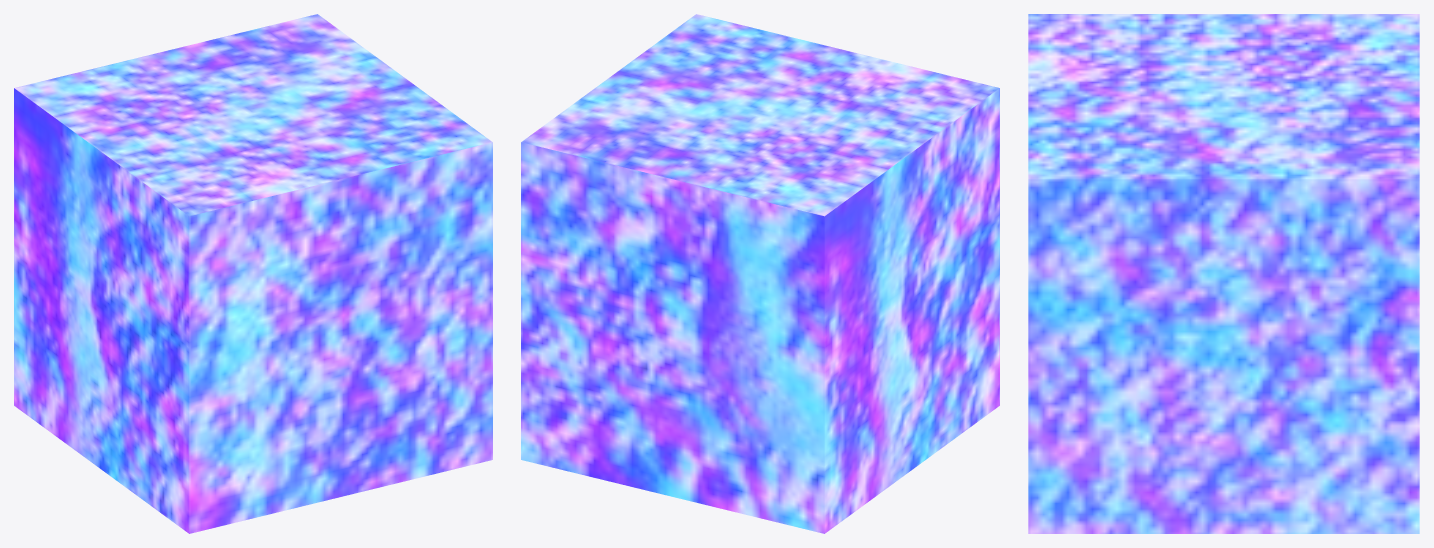
Rendered from splashdCube.glb.
The picture shows the model from 3 angles, left to right: view 1: azimuth 30°, elevation 25°; view 2: azimuth 150°, elevation 25°; view 3: azimuth 270°, elevation 25°; orthographic projection. The views are drawn at different scales.
Visible parts, largest first — view 1: Cube.017; view 2: Cube.017; view 3: Cube.017.
Part boxes in pixels (x1,y1,x2,y2): Cube.017: [14, 14, 492, 533]; Cube.017: [521, 14, 999, 533]; Cube.017: [1028, 14, 1419, 533].
Size of the model in its own units: 2 by 2 by 2.
